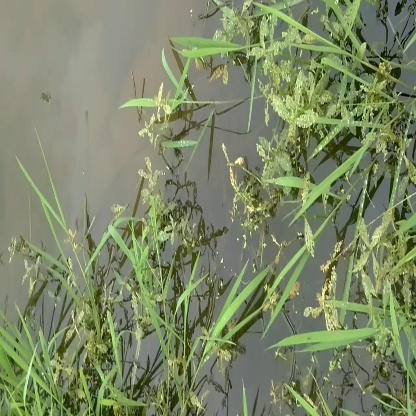grass: (207, 3, 401, 141)
